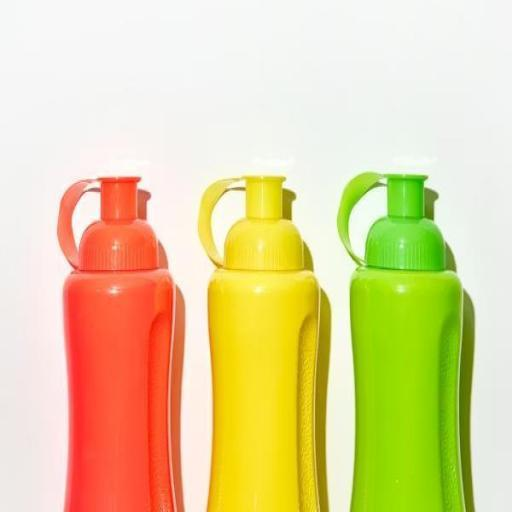bottle: (326, 144, 478, 512), (190, 159, 332, 512), (48, 159, 176, 512)
